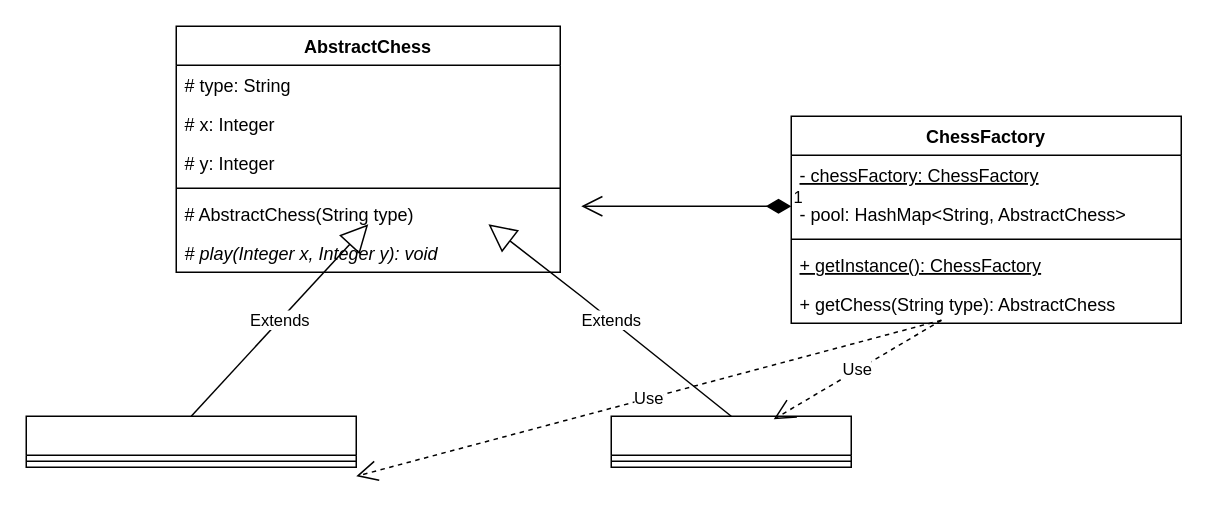
Some shapes in this 1208 by 524 pixel diagram are drawn without their labels. Here are the shapes that lost their labels. From the top down, the centre of each, then its label:
At pixel 190 441: "WhiteChess".
At pixel 730 441: "BlackChess".
